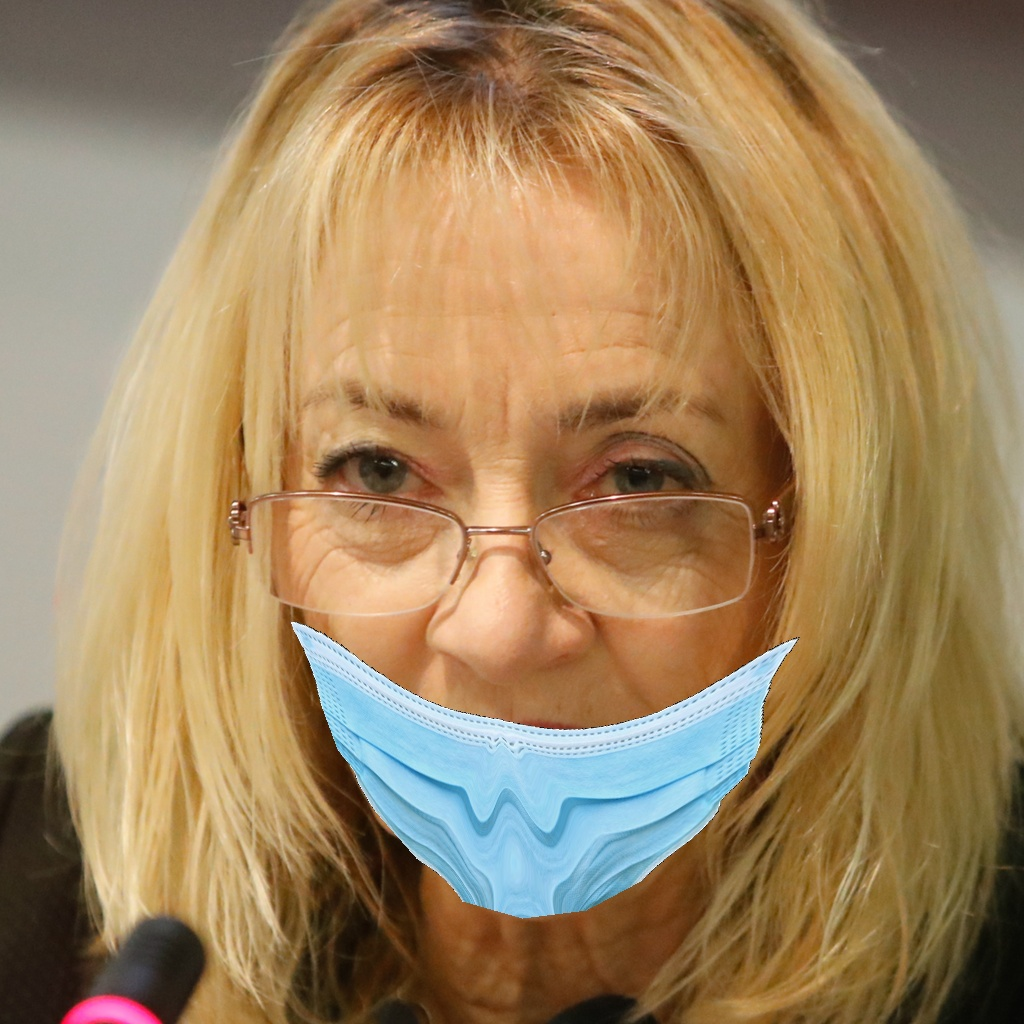Mask_Mouth_Chin: (275, 379, 837, 921)
